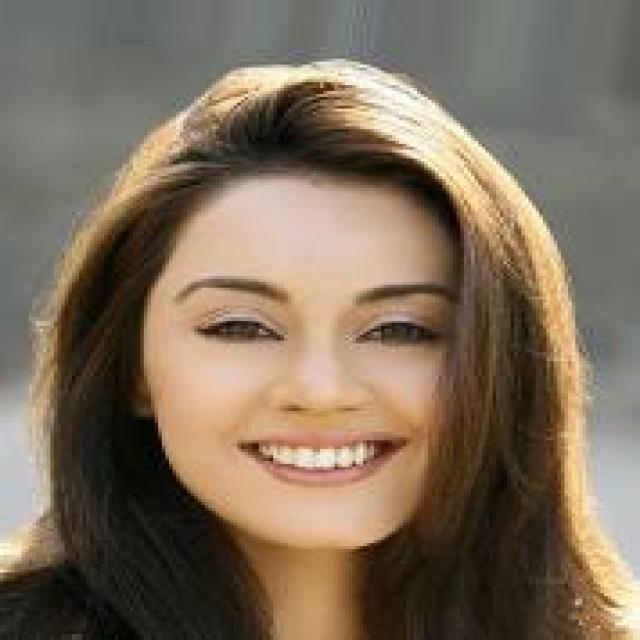nomask: (97, 144, 529, 546)
